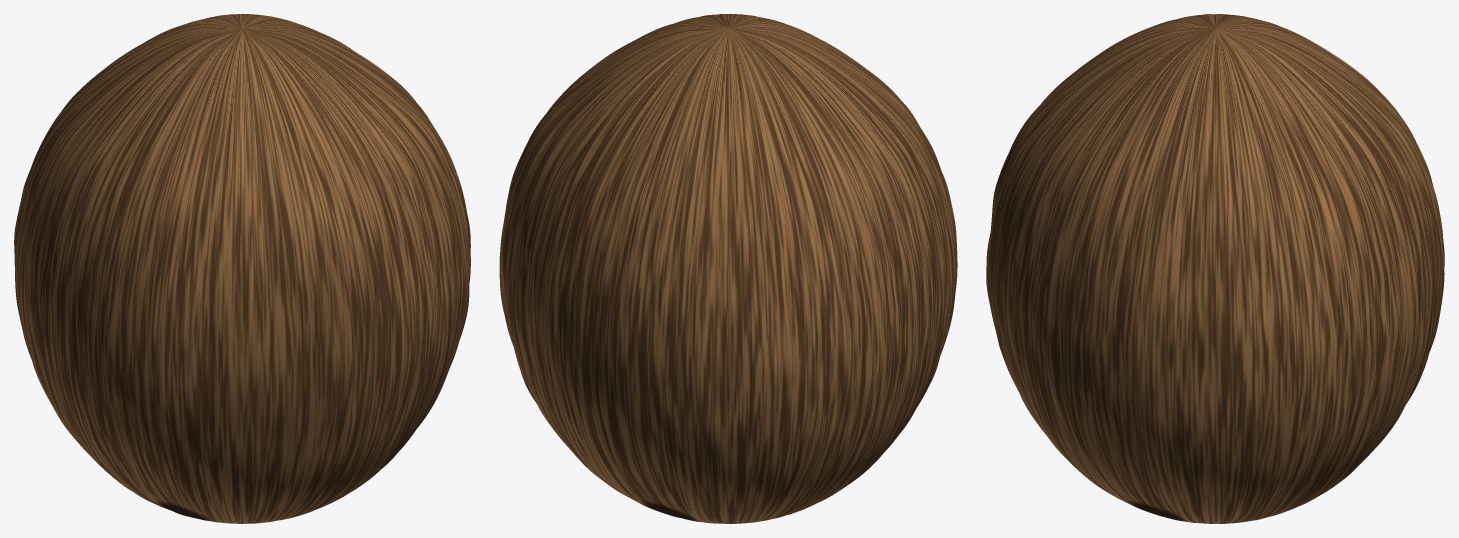
The model's file is coco.glb.
3 views of the same model, side by side, from view 1: azimuth 30°, elevation 25°; view 2: azimuth 150°, elevation 25°; view 3: azimuth 270°, elevation 25° (orthographic).
Parts seen in each view (by area): view 1: entier_peau, moitie_A_peau, moitie_B_peau; view 2: moitie_B_peau, entier_peau, moitie_A_peau; view 3: entier_peau, moitie_A_peau, moitie_B_peau.
Part boxes in pixels (bbox=[...]): entier_peau: bbox=[14, 14, 469, 518]; moitie_A_peau: bbox=[54, 25, 470, 523]; moitie_B_peau: bbox=[14, 14, 350, 472]; moitie_B_peau: bbox=[499, 25, 916, 523]; entier_peau: bbox=[499, 17, 957, 523]; moitie_A_peau: bbox=[625, 14, 956, 462]; entier_peau: bbox=[986, 14, 1444, 523]; moitie_A_peau: bbox=[1016, 14, 1216, 523]; moitie_B_peau: bbox=[1216, 14, 1444, 523].
Size of the model in its own units: 0.1121 by 0.13 by 0.1135.
Materials: 2 (2 with a texture image).
